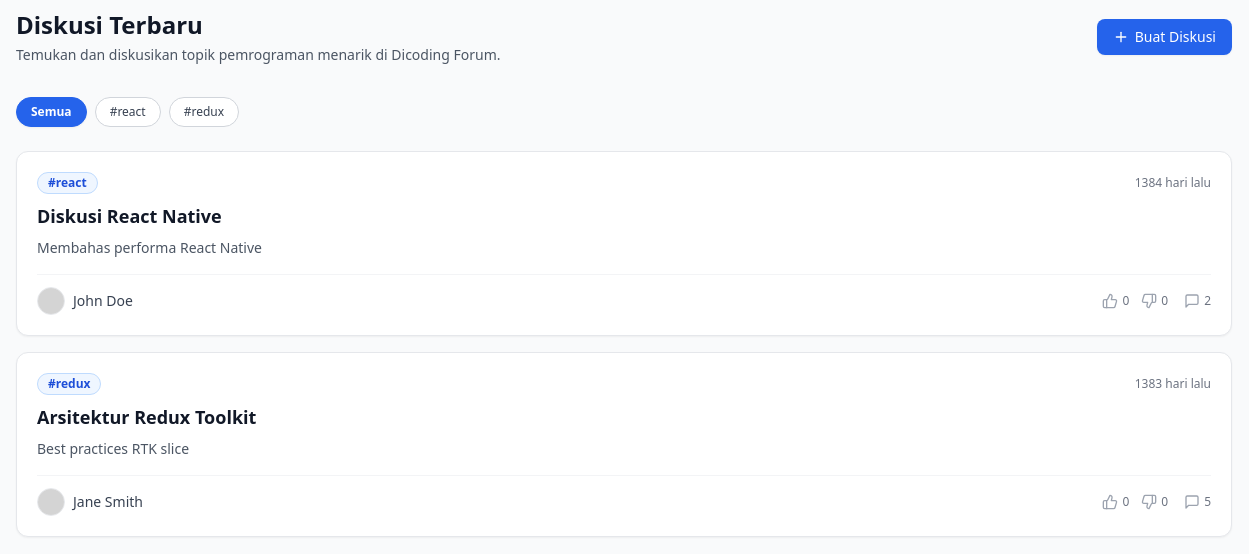
HomePage component › should filter threads when a category chip is selected and reset when "Semua" is clicked
The image size is (1249, 554).
Note: Select 'react' chip
Step 1. Click the button "#react" → coordinates (128, 112), box [95,97,161,127]
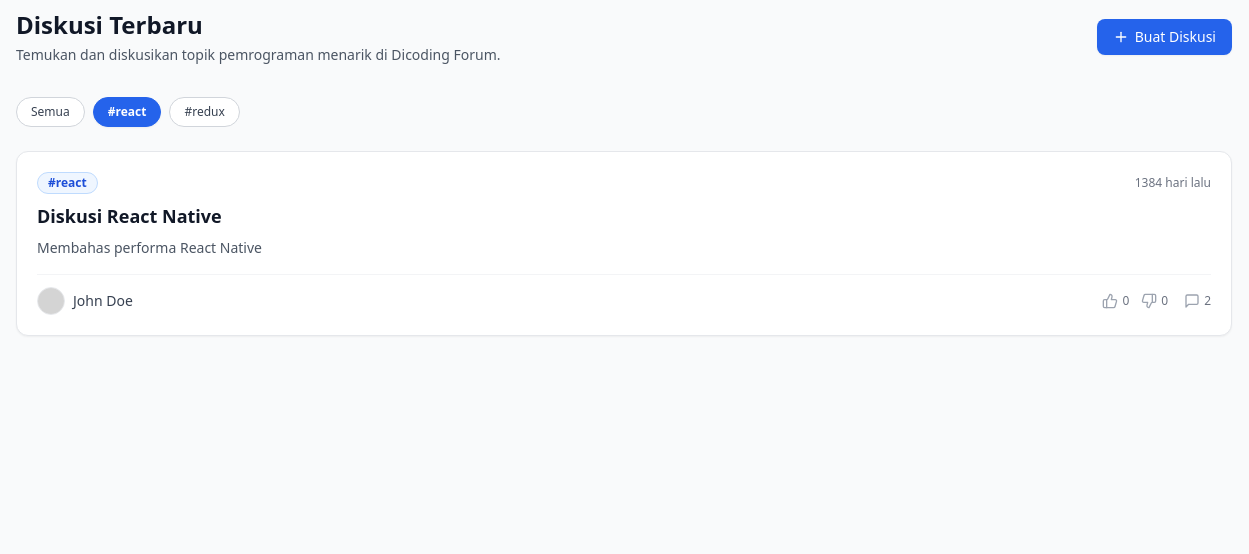
Expected: the link "Diskusi React Native" is shown, [37,204,222,228]
Expected: the link "Arsitektur Redux Toolkit" is gone
Note: Click 'Semua' to reset
Step 2. Click the button "Semua" → coordinates (50, 112), box [16,97,85,127]
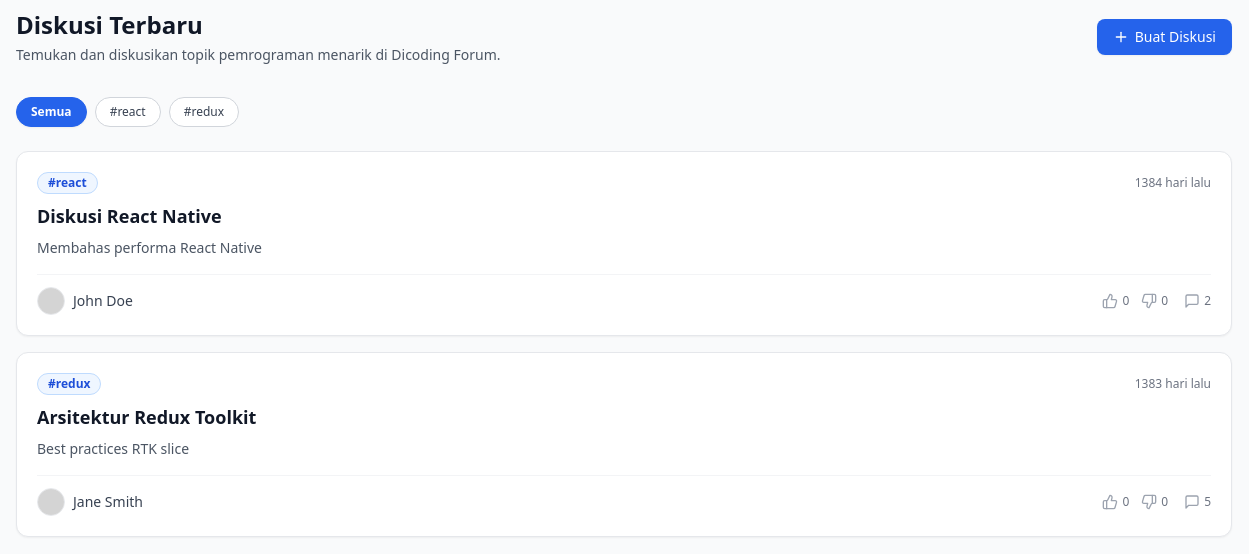
Expected: the link "Diskusi React Native" is shown, [37,204,222,228]
Expected: the link "Arsitektur Redux Toolkit" is shown, [37,405,256,429]
